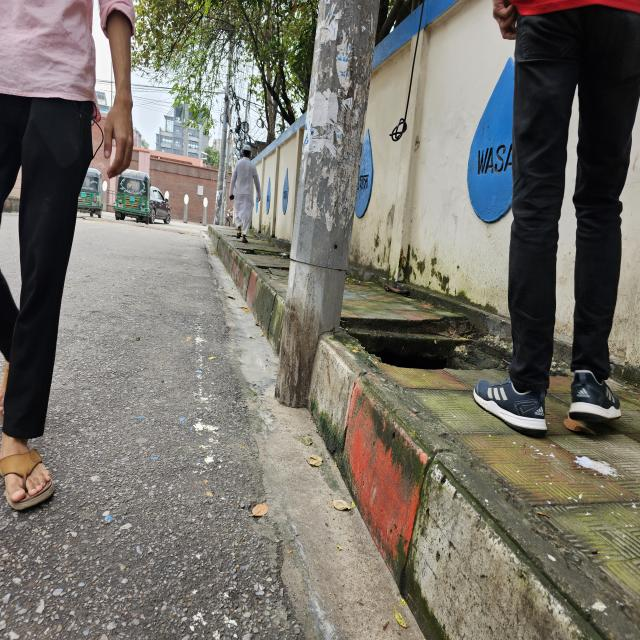drain_inlet: (344, 316, 511, 373)
